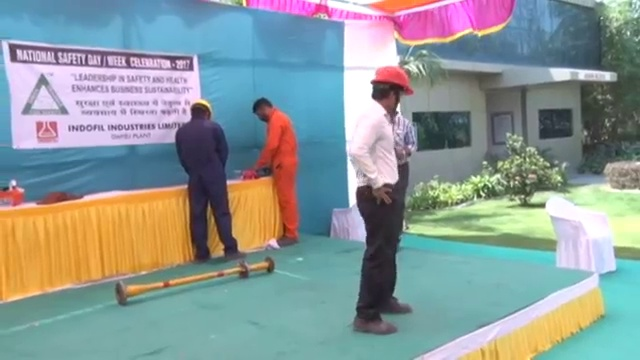helmet: (369, 63, 417, 97), (190, 98, 213, 116)
helmet_off: (251, 94, 276, 125)
helmet_on: (367, 61, 417, 115), (187, 96, 214, 123)
person: (350, 62, 413, 336), (174, 95, 249, 261), (249, 95, 300, 247), (386, 109, 418, 230)
